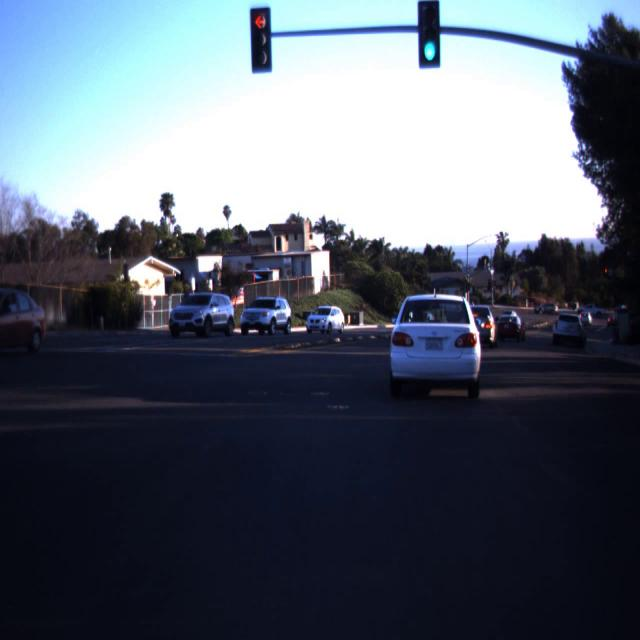kirmizi: (249, 6, 272, 74)
yesil: (417, 0, 440, 69)
